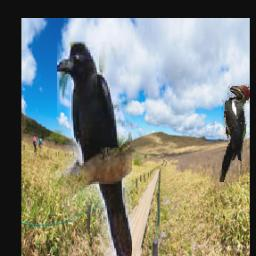Crow: (57, 42, 132, 256)
Woodpecker: (219, 85, 250, 183)
